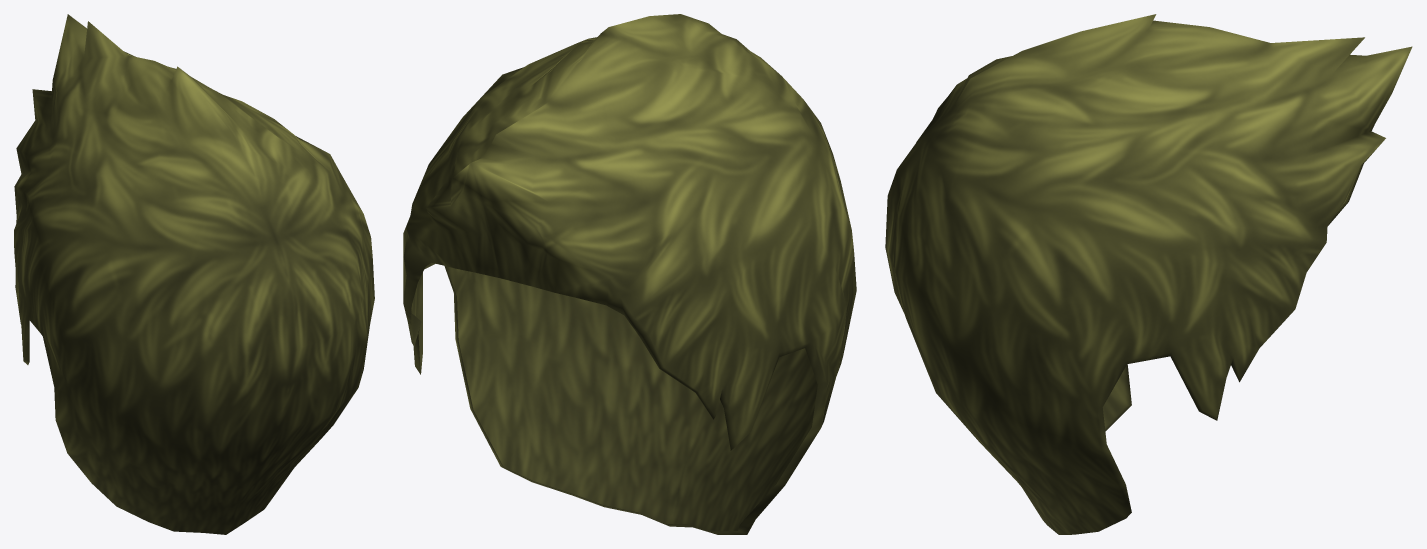
The model's file is Hair_Male_005_textured_yellow.glb.
3 views of the same model, side by side, from view 1: azimuth 30°, elevation 25°; view 2: azimuth 150°, elevation 25°; view 3: azimuth 270°, elevation 25° (orthographic). The views are drawn at different scales.
Visible parts, largest first — view 1: Hair_Male_005; view 2: Hair_Male_005; view 3: Hair_Male_005.
Boxes of the visible parts, x1,y1,x2,y2 form: Hair_Male_005: (14,14,374,534); Hair_Male_005: (403,14,856,534); Hair_Male_005: (885,14,1412,534).
Size of the model in its own units: 0.1845 by 0.2501 by 0.2361.
1 material, 1 textured.
